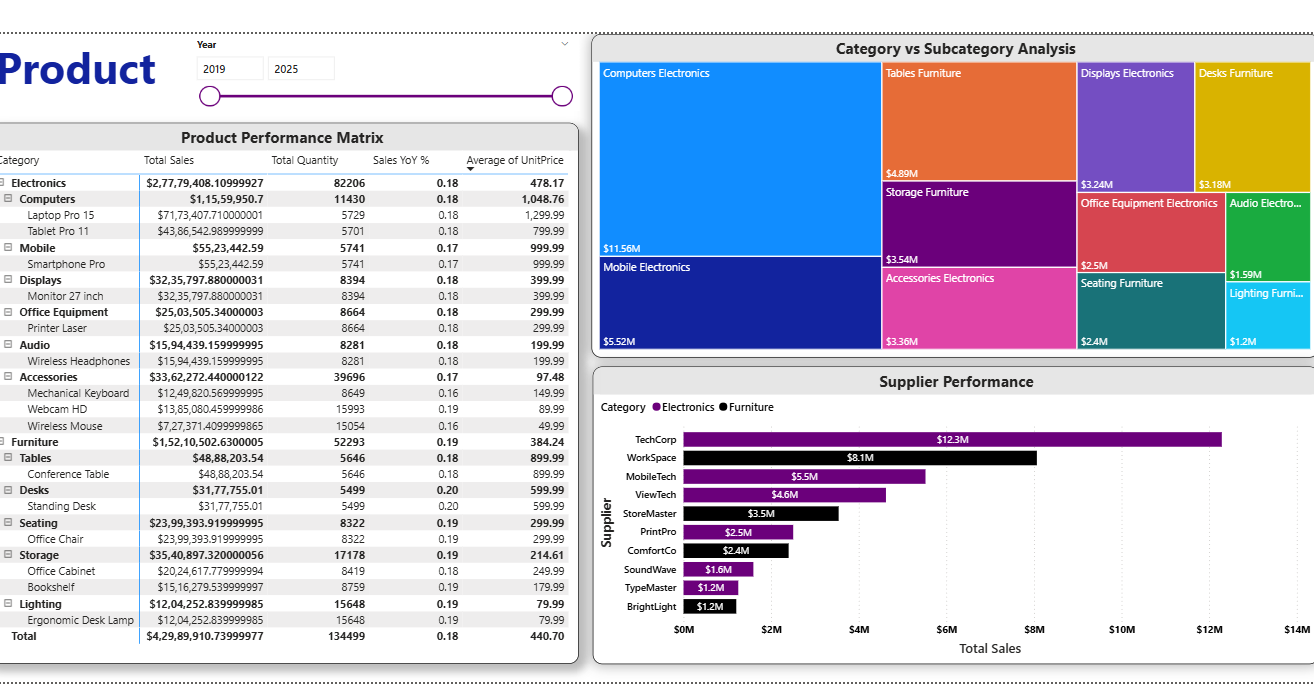

The page's visual inventory and layout, read from the dashboard file:
{"tool":"powerbi","page":{"name":"Product Analysis","canvas":[1650,800],"ordinal":3},"visuals":[{"type":"textbox","box":[9.3,0,227.1,81.9],"z":0},{"type":"pivotTable","title":"Product Performance Matrix","fields":{"Rows":["DimProduct.Category","DimProduct.SubCategory","DimProduct.ProductName"],"Values":["FactSales.Total Sales","FactSales.Total Quantity","FactSales.Sales YoY %","Avg(FactSales.UnitPrice)"]},"box":[0,109.7,735.4,669],"z":1000},{"type":"treemap","title":"Category vs Subcategory Analysis","fields":{"Group":["DimProduct.SubCategory","DimProduct.Category"],"Values":["FactSales.Total Sales"]},"box":[750.8,0,899.2,400.1],"z":2000},{"type":"barChart","title":"Supplier Performance","fields":{"Category":["DimProduct.Supplier"],"Y":["FactSales.Total Sales"],"Series":["DimProduct.Category"]},"box":[752.4,411,897.6,367.7],"z":3000},{"type":"slicer","fields":{"Values":["Calendar.Year"]},"box":[250.3,0,485.1,94.2],"z":4000}]}

Visuals, with their boxes on the page's 1650x800 design canvas (x1, y1, x2, y2). These are canvas units, not pixel positions in the 1314x689 screenshot, which may show the page scaled, cropped or inside an application window:
textbox: 9,0,236,82
"Product Performance Matrix" pivotTable: 0,110,735,779
"Category vs Subcategory Analysis" treemap: 751,0,1650,400
"Supplier Performance" barChart: 752,411,1650,779
slicer - Calendar.Year: 250,0,735,94
